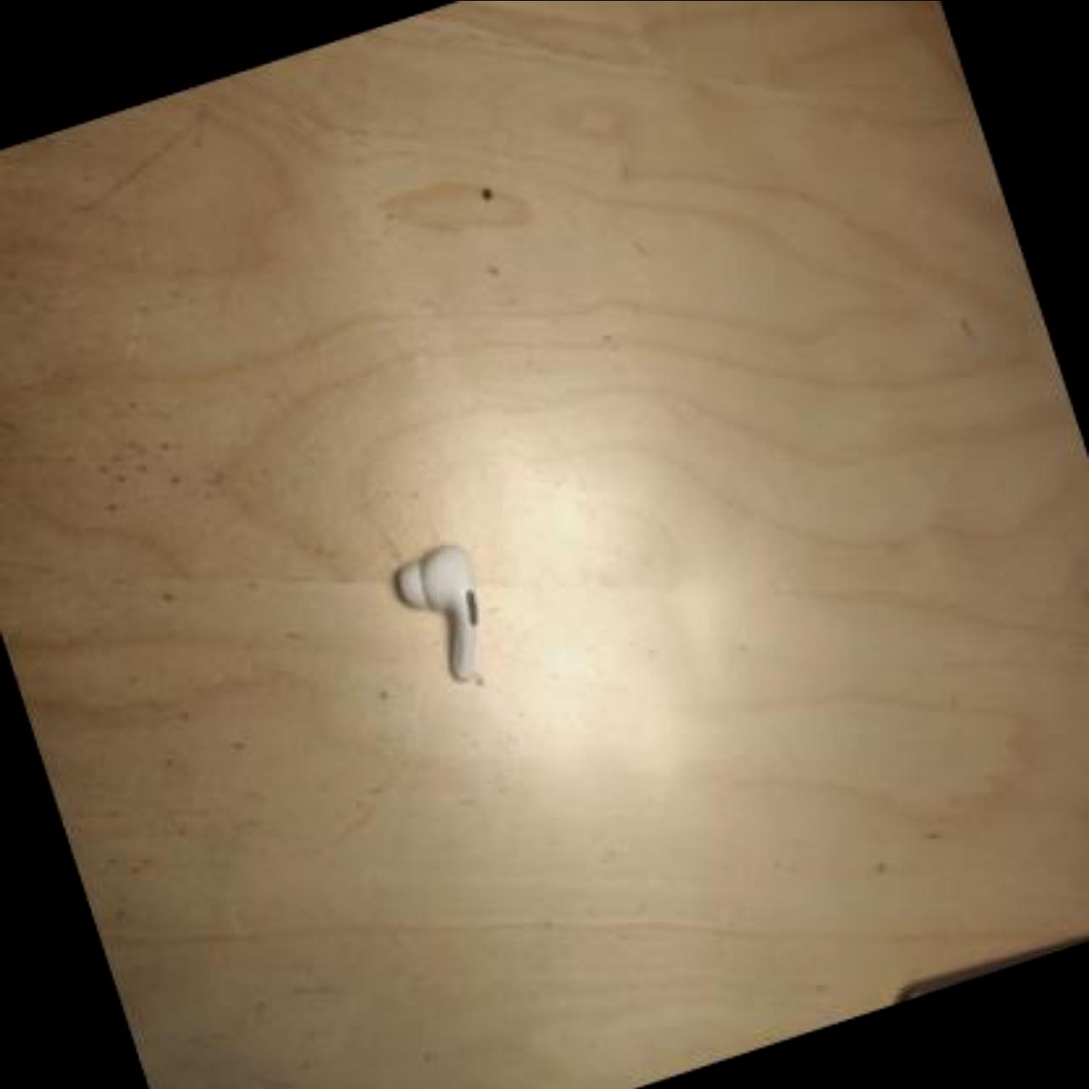Airpods_Units: (387, 528, 507, 687)
